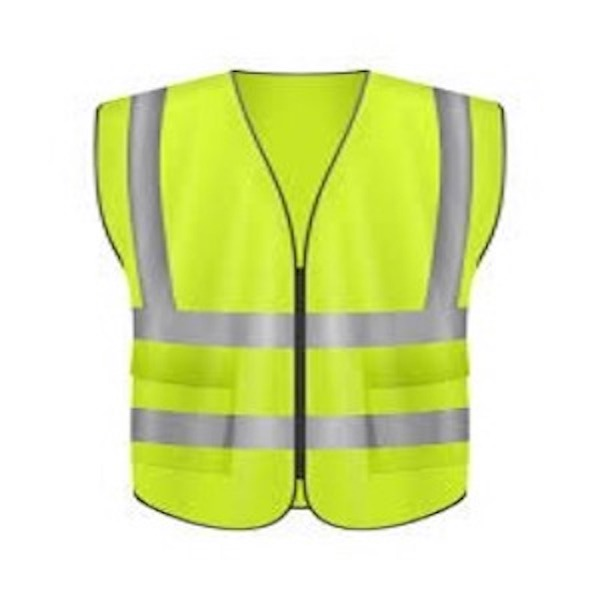vest: (95, 70, 507, 525)
